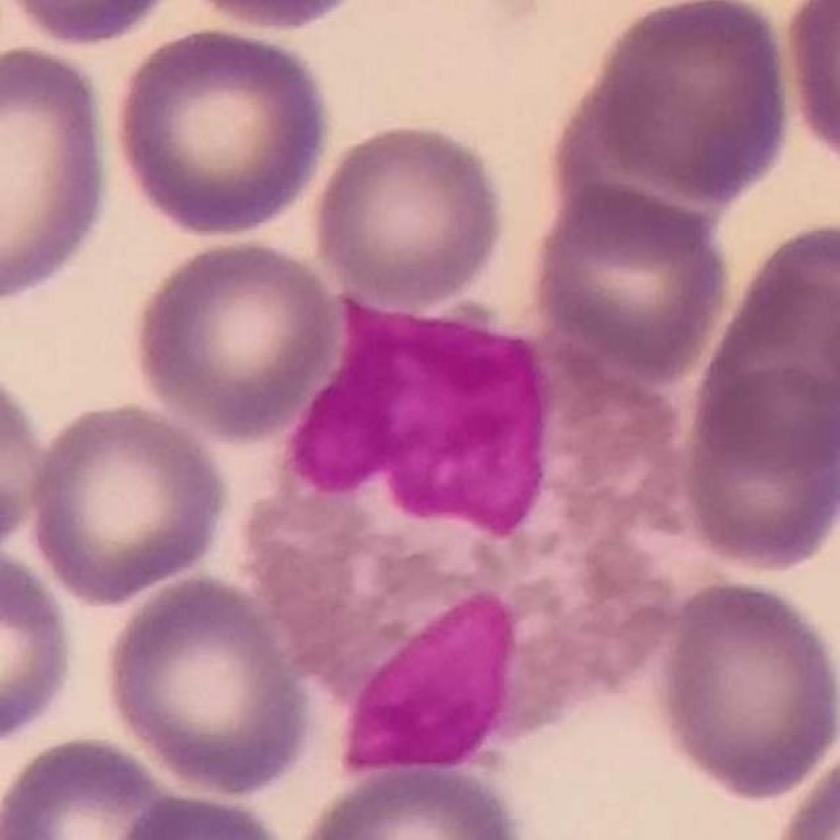eosinophil: (239, 281, 709, 768)
